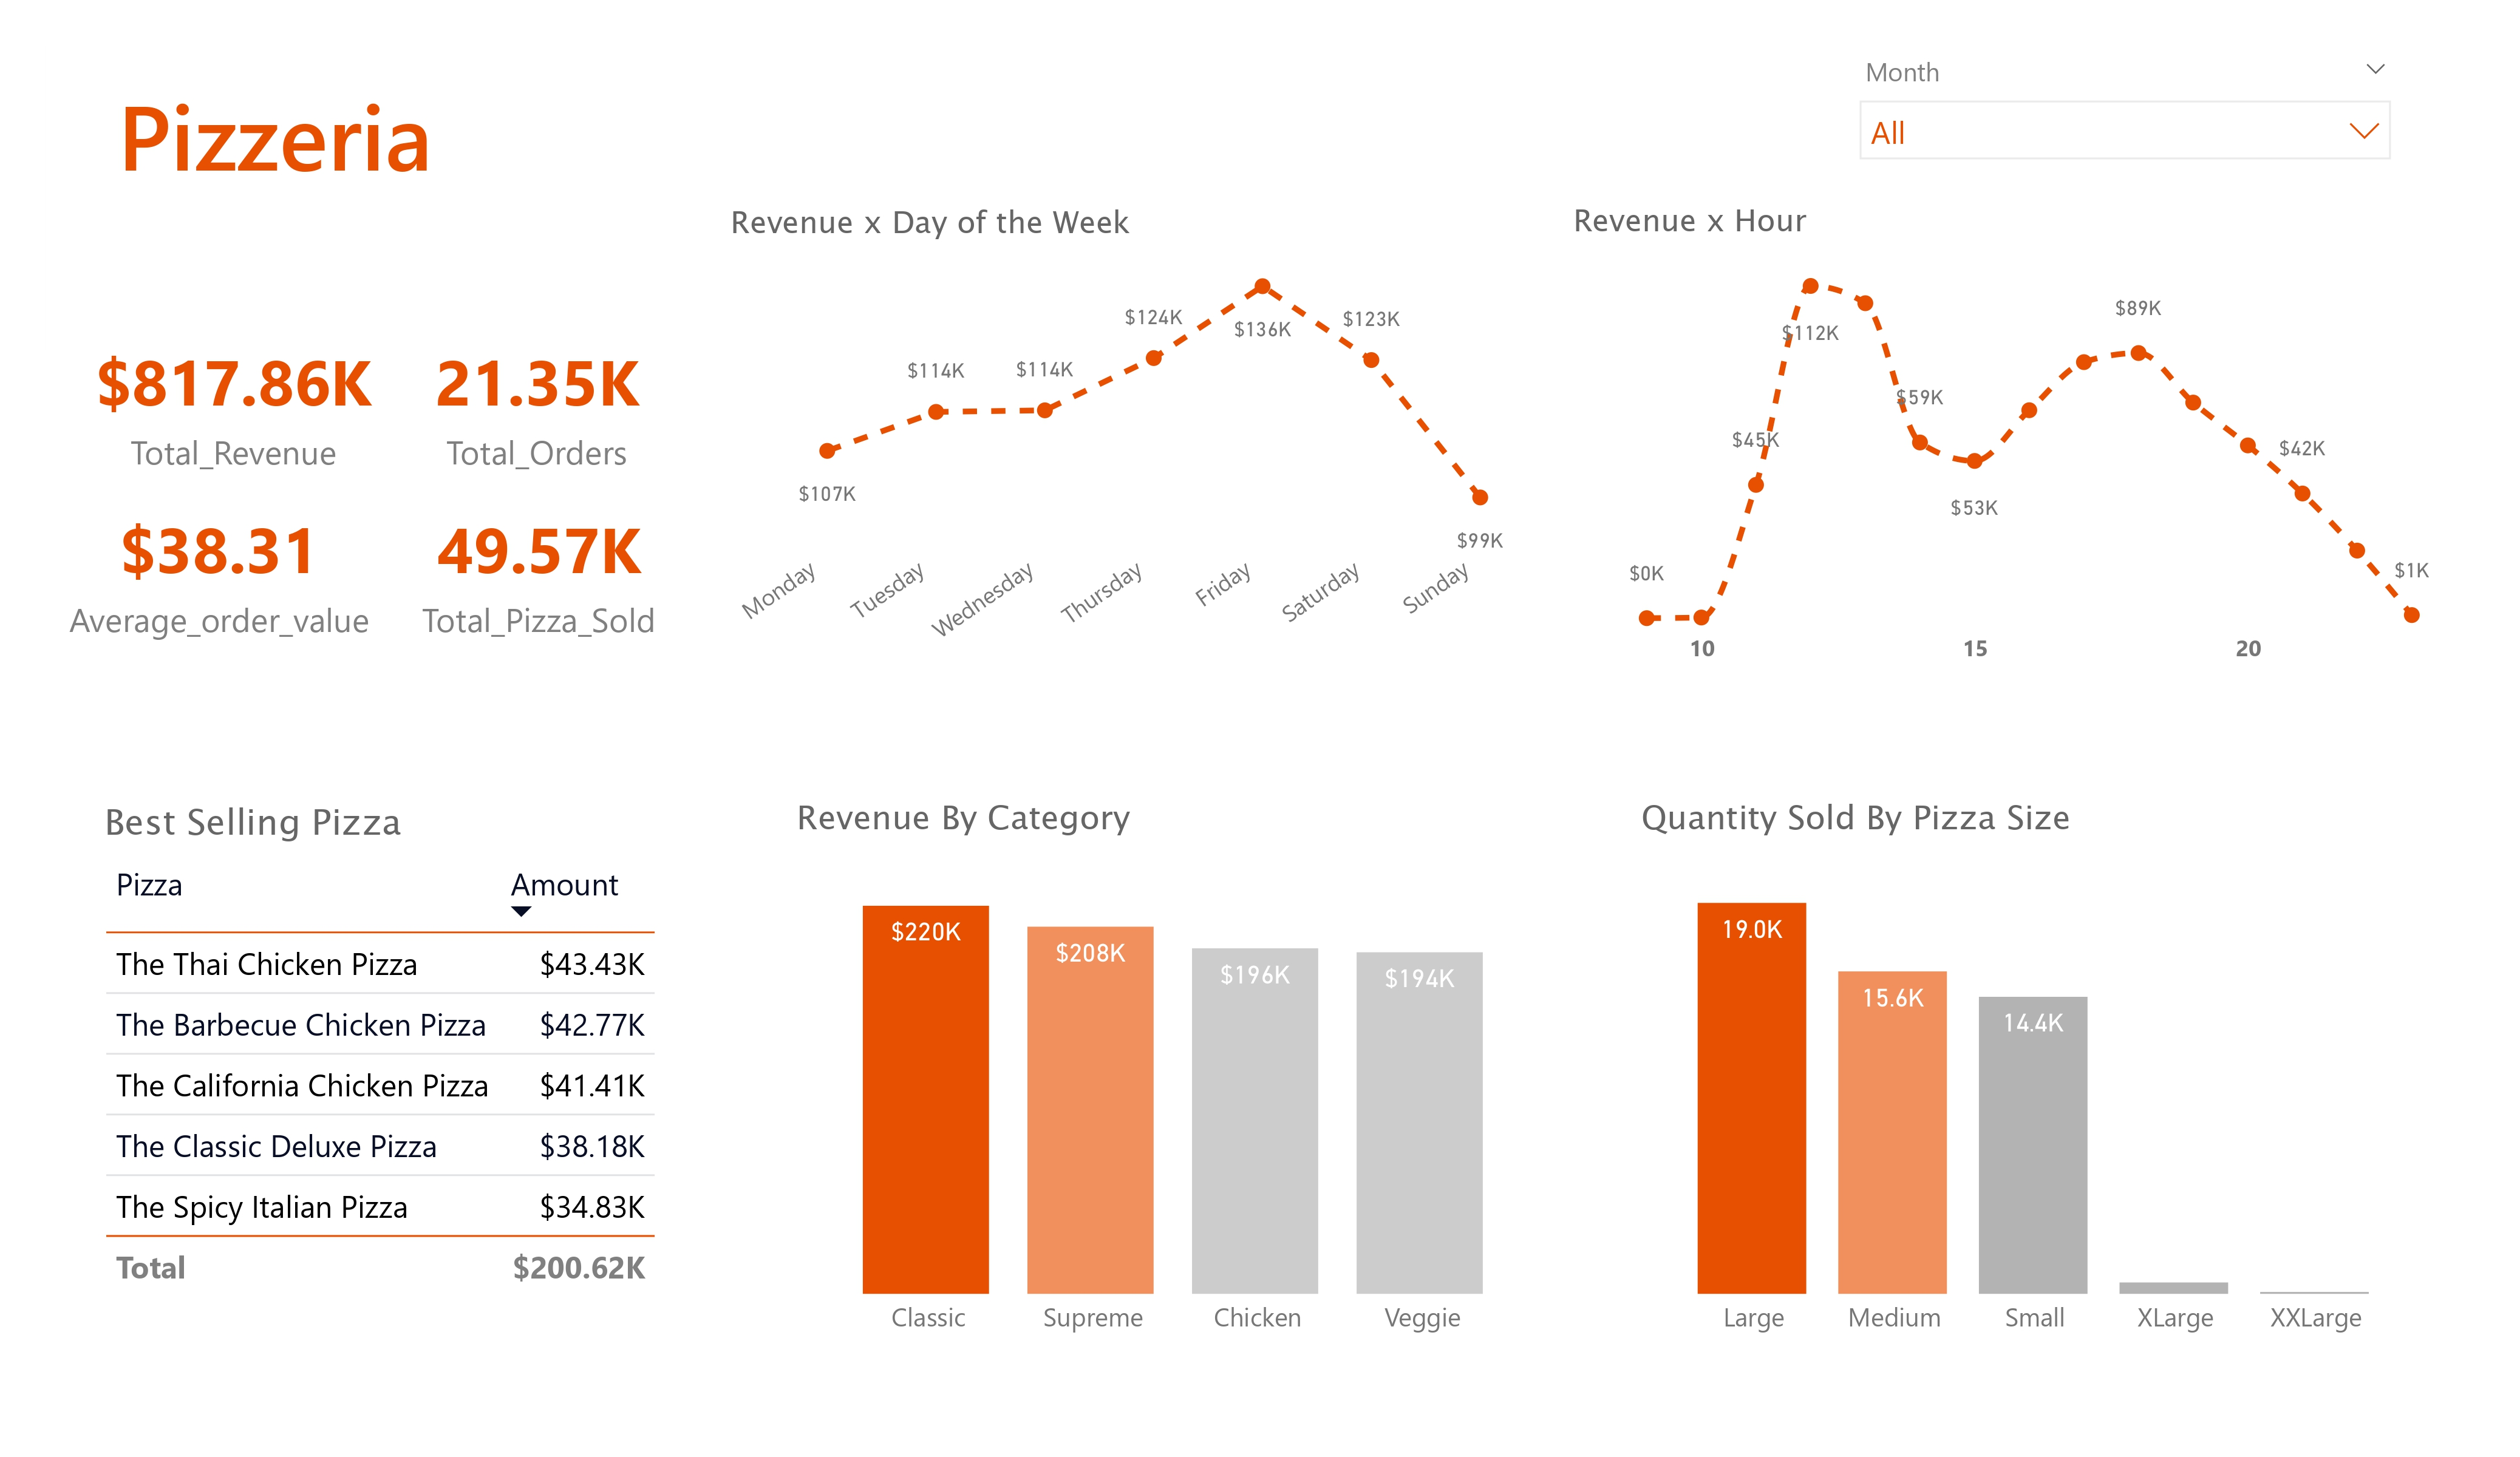

The page's visual inventory and layout, read from the dashboard file:
{"tool":"powerbi","page":{"name":"Page 1","canvas":[1280,720],"ordinal":0},"visuals":[{"type":"lineChart","title":"Revenue x Day of the Week","fields":{"Category":["orders.Day Name"],"Y":["orders.Total_Revenue"]},"box":[356.2,76.2,427.5,260],"z":0},{"type":"lineChart","title":"Revenue x Hour","fields":{"Category":["orders.Hour"],"Y":["orders.Total_Revenue"]},"box":[800.2,74.7,461.9,260.8],"z":1000},{"type":"columnChart","title":"Revenue By Category","fields":{"Category":["pizza_types.category"],"Y":["orders.Total_Revenue"]},"box":[391.4,388.6,408.6,300],"z":2000},{"type":"columnChart","title":"Quantity Sold By Pizza Size","fields":{"Y":["Sum(order_details.quantity)"],"Category":["pizzas.size"]},"box":[835.7,388.6,425.7,300],"z":3000},{"type":"tableEx","title":"Best Selling Pizza","fields":{"Values":["pizza_types.name","orders.Total_Revenue"]},"box":[25.7,395.7,330,284.3],"z":4000},{"type":"card","fields":{"Values":["orders.Total_Revenue"]},"box":[7.1,135.7,184.3,105.7],"z":5000},{"type":"card","fields":{"Values":["orders.Average_order_value"]},"box":[7.1,224.3,168.6,105.7],"z":6000},{"type":"card","fields":{"Values":["orders.Total_Orders"]},"box":[191.4,144.3,135.7,88.6],"z":7000},{"type":"card","fields":{"Values":["orders.Total_Pizza_Sold"]},"box":[175.7,232.9,168.6,88.6],"z":8000},{"type":"slicer","fields":{"Values":["orders.Month Name"]},"box":[945.7,0,300,60],"z":8001},{"type":"textbox","box":[25.6,8.5,190.4,76.9],"z":8002}]}

Visuals, with their boxes on the page's 1280x720 design canvas (x1, y1, x2, y2). These are canvas units, not pixel positions in the 2520x1457 screenshot, which may show the page scaled, cropped or inside an application window:
"Revenue x Day of the Week" lineChart: 356, 76, 784, 336
"Revenue x Hour" lineChart: 800, 75, 1262, 336
"Revenue By Category" columnChart: 391, 389, 800, 689
"Quantity Sold By Pizza Size" columnChart: 836, 389, 1261, 689
"Best Selling Pizza" tableEx: 26, 396, 356, 680
card - orders.Total_Revenue: 7, 136, 191, 241
card - orders.Average_order_value: 7, 224, 176, 330
card - orders.Total_Orders: 191, 144, 327, 233
card - orders.Total_Pizza_Sold: 176, 233, 344, 322
slicer - orders.Month Name: 946, 0, 1246, 60
textbox: 26, 8, 216, 85
